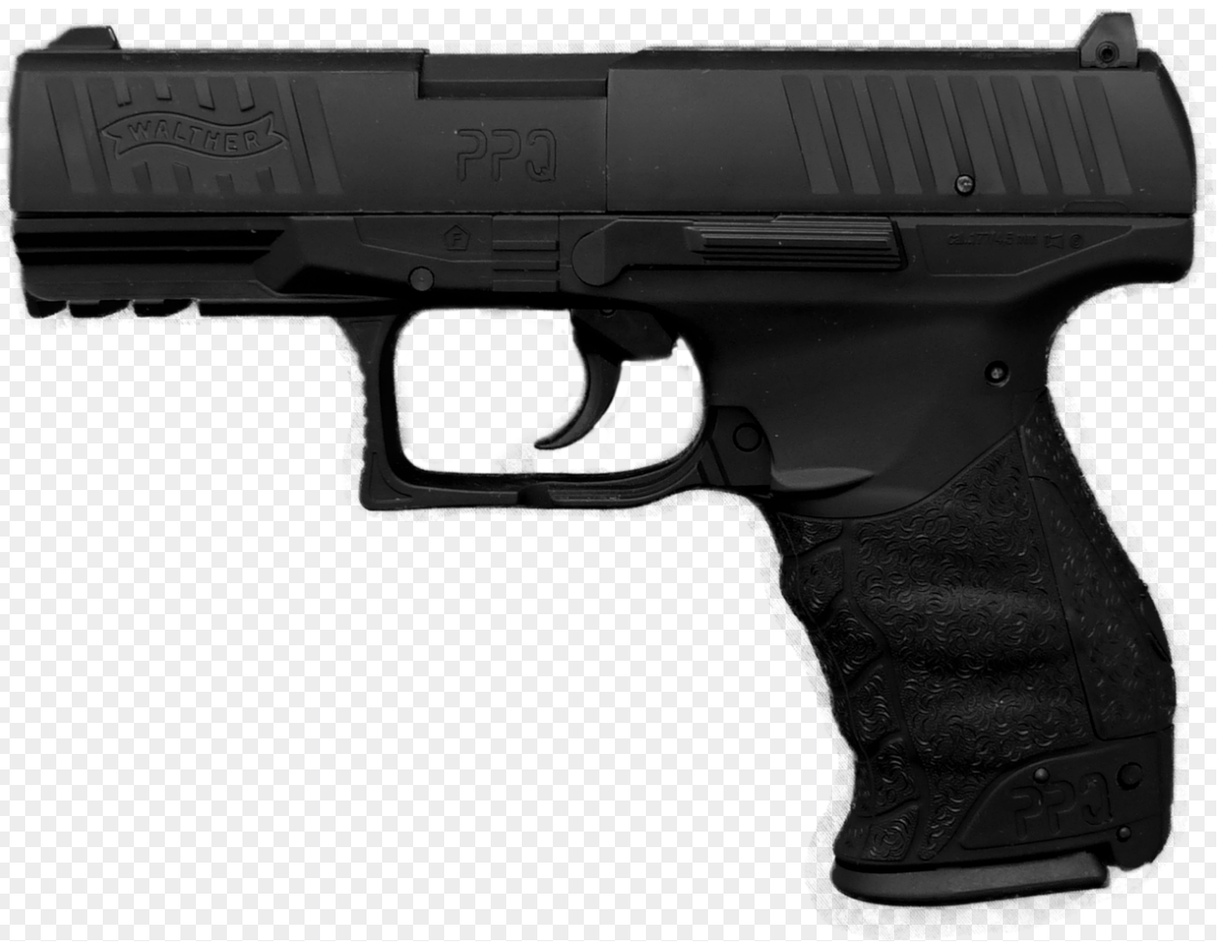gun_032.png: (3, 18, 1203, 912)
